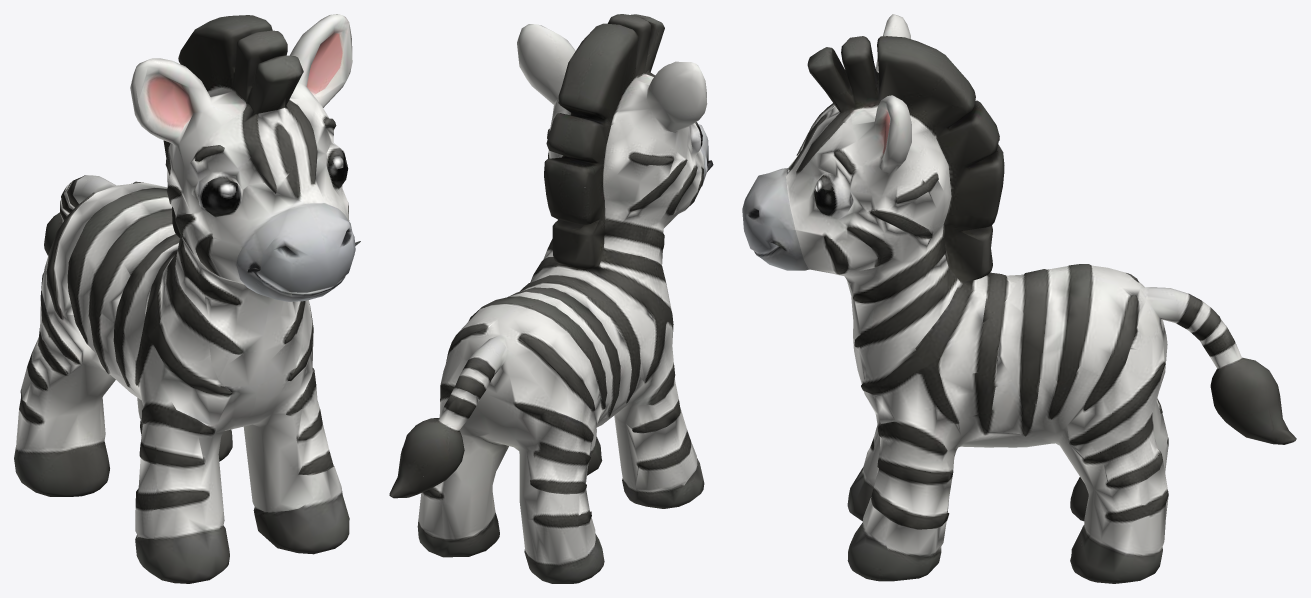
Rendered from zebra.glb.
3 renders of one model, left to right at view 1: azimuth 30°, elevation 25°; view 2: azimuth 150°, elevation 25°; view 3: azimuth 270°, elevation 25°, orthographic. The views are drawn at different scales.
Visible parts, largest first — view 1: personagem; view 2: personagem; view 3: personagem.
Boxes of the visible parts, x1,y1,x2,y2 form: personagem: [14, 14, 360, 583]; personagem: [389, 14, 713, 583]; personagem: [742, 14, 1296, 583].
Size of the model in its own units: 0.42 by 0.974 by 0.9785.
1 material, 1 textured.
